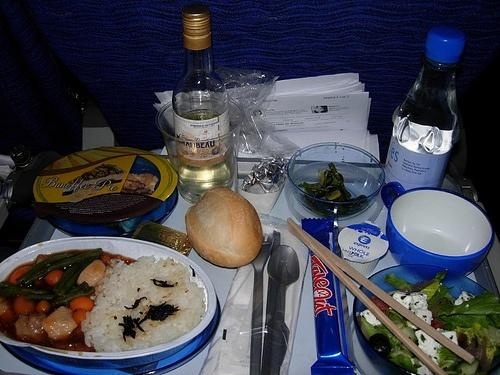bottle: (383, 22, 468, 209), (174, 5, 239, 205)
